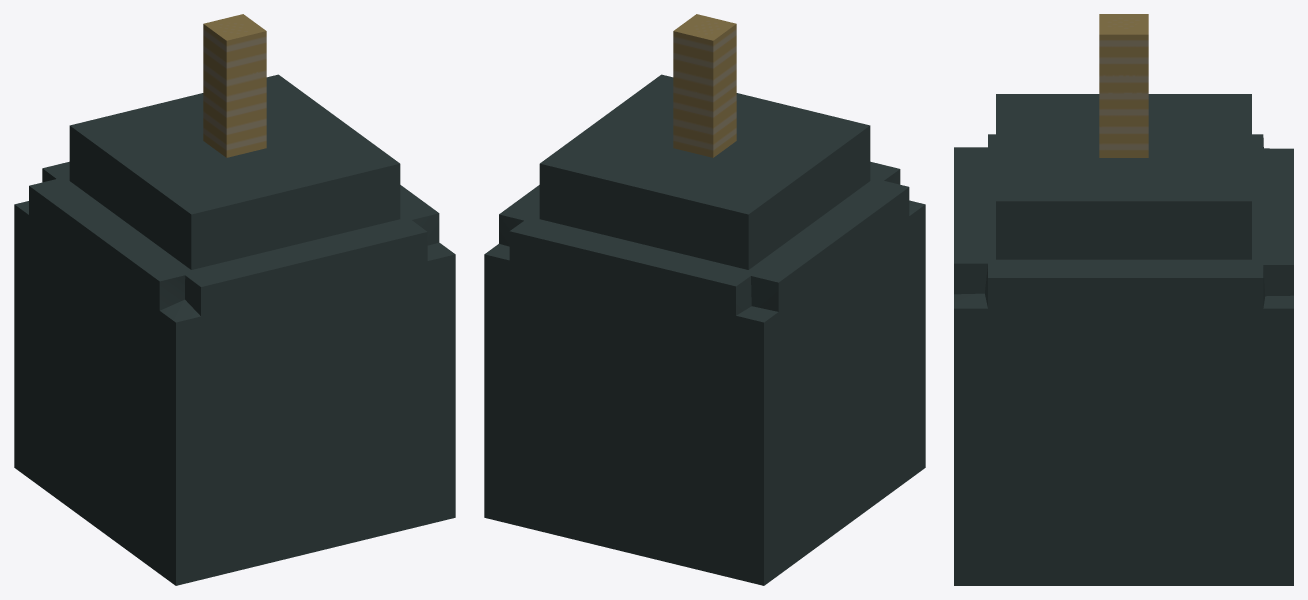
Rendered from Boom.fbx.
3 views of the same model, side by side, from view 1: azimuth 30°, elevation 25°; view 2: azimuth 150°, elevation 25°; view 3: azimuth 270°, elevation 25° (orthographic). The views are drawn at different scales.
Visible parts, largest first — view 1: bomb01, bomb02, fuse; view 2: bomb01, bomb02, fuse; view 3: bomb01, bomb02, fuse.
Part boxes in pixels (box(x1,y1,x2,y2)): bomb01: box(14, 161, 455, 585); bomb02: box(69, 74, 400, 269); fuse: box(203, 14, 266, 157); bomb01: box(484, 161, 925, 585); bomb02: box(539, 74, 870, 269); fuse: box(673, 14, 736, 157); bomb01: box(954, 134, 1293, 585); bomb02: box(996, 94, 1251, 259); fuse: box(1099, 14, 1148, 157).
Bounding box in the file's own units: 50 × 79.5 × 50.
